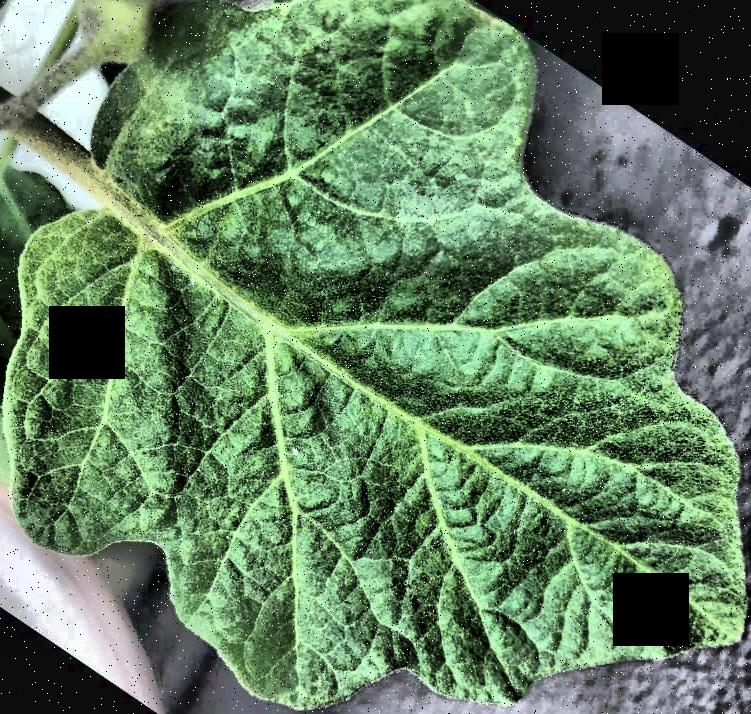HEALTHY: (1, 1, 751, 714)
